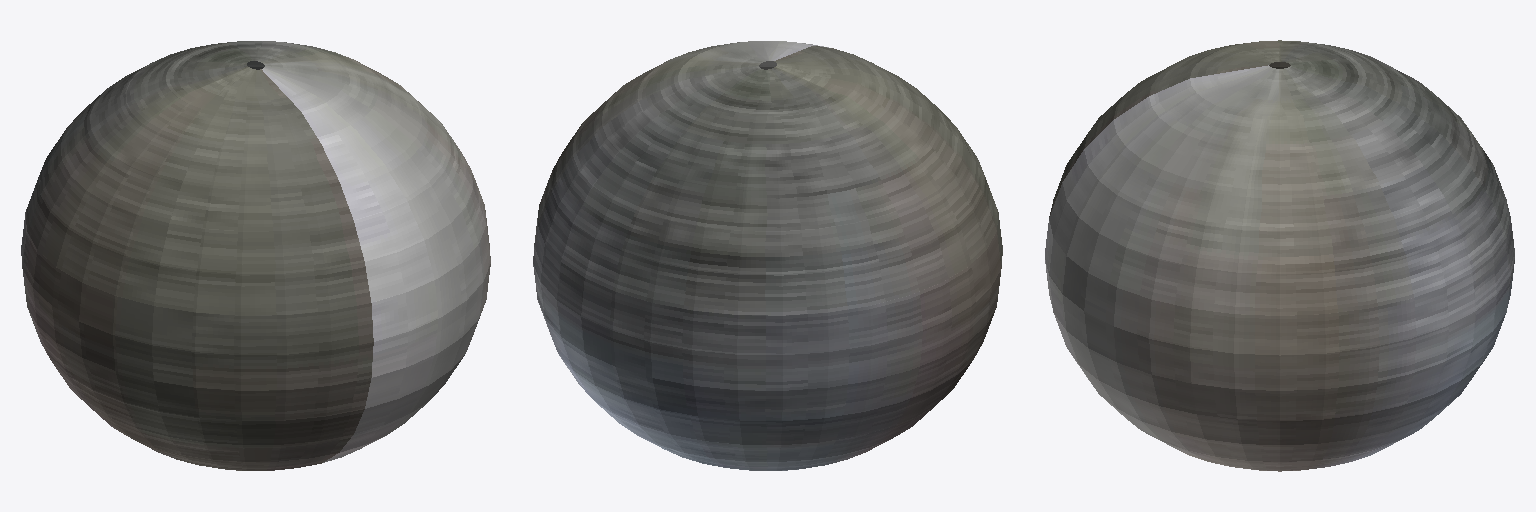
The picture shows the model from 3 angles: view 1: azimuth 30°, elevation 25°; view 2: azimuth 150°, elevation 25°; view 3: azimuth 270°, elevation 25°; orthographic projection.
Parts seen in each view (by area): view 1: Sphere; view 2: Sphere; view 3: Sphere.
Boxes of the visible parts, box(x1,y1,x2,y2) form: Sphere: box(21, 41, 490, 470); Sphere: box(533, 41, 1002, 470); Sphere: box(1045, 40, 1514, 471).
Size of the model in its own units: 0.5355 by 0.4784 by 0.5355.
1 materials, 1 textured.